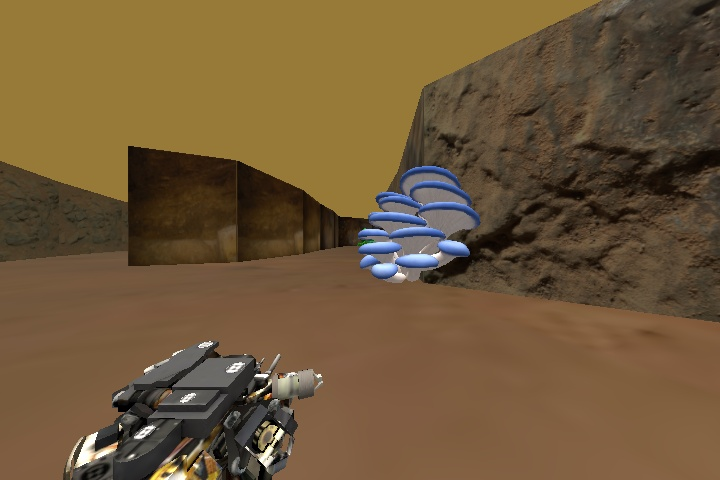mushroom: (357, 164, 481, 286)
